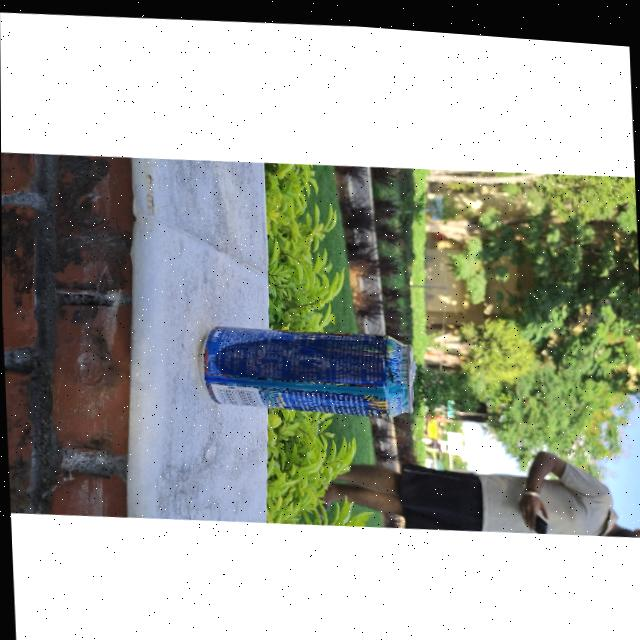Monster Aussie Lemonade: (206, 316, 410, 422)
